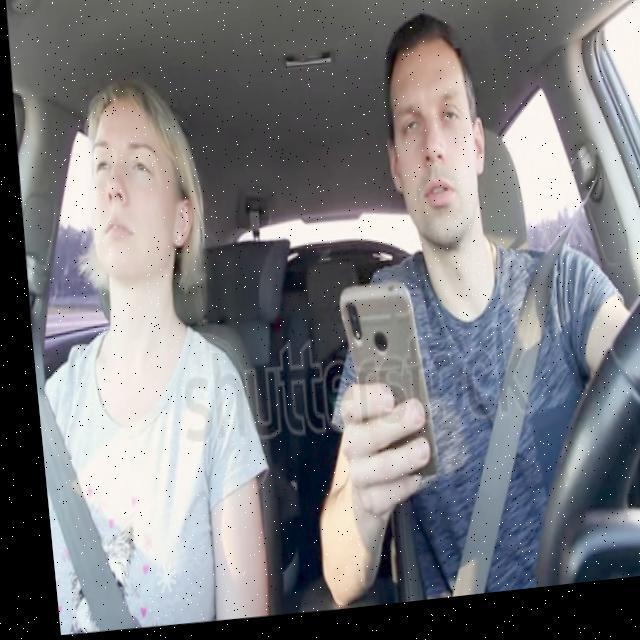PhoneCall: (327, 282, 432, 496)
